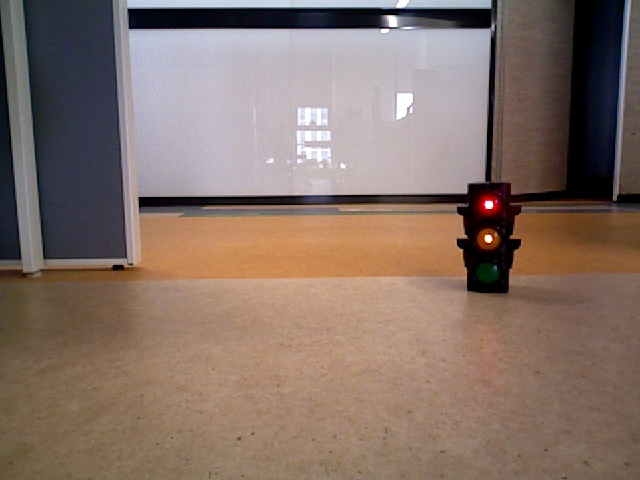red: (467, 181, 506, 286)
